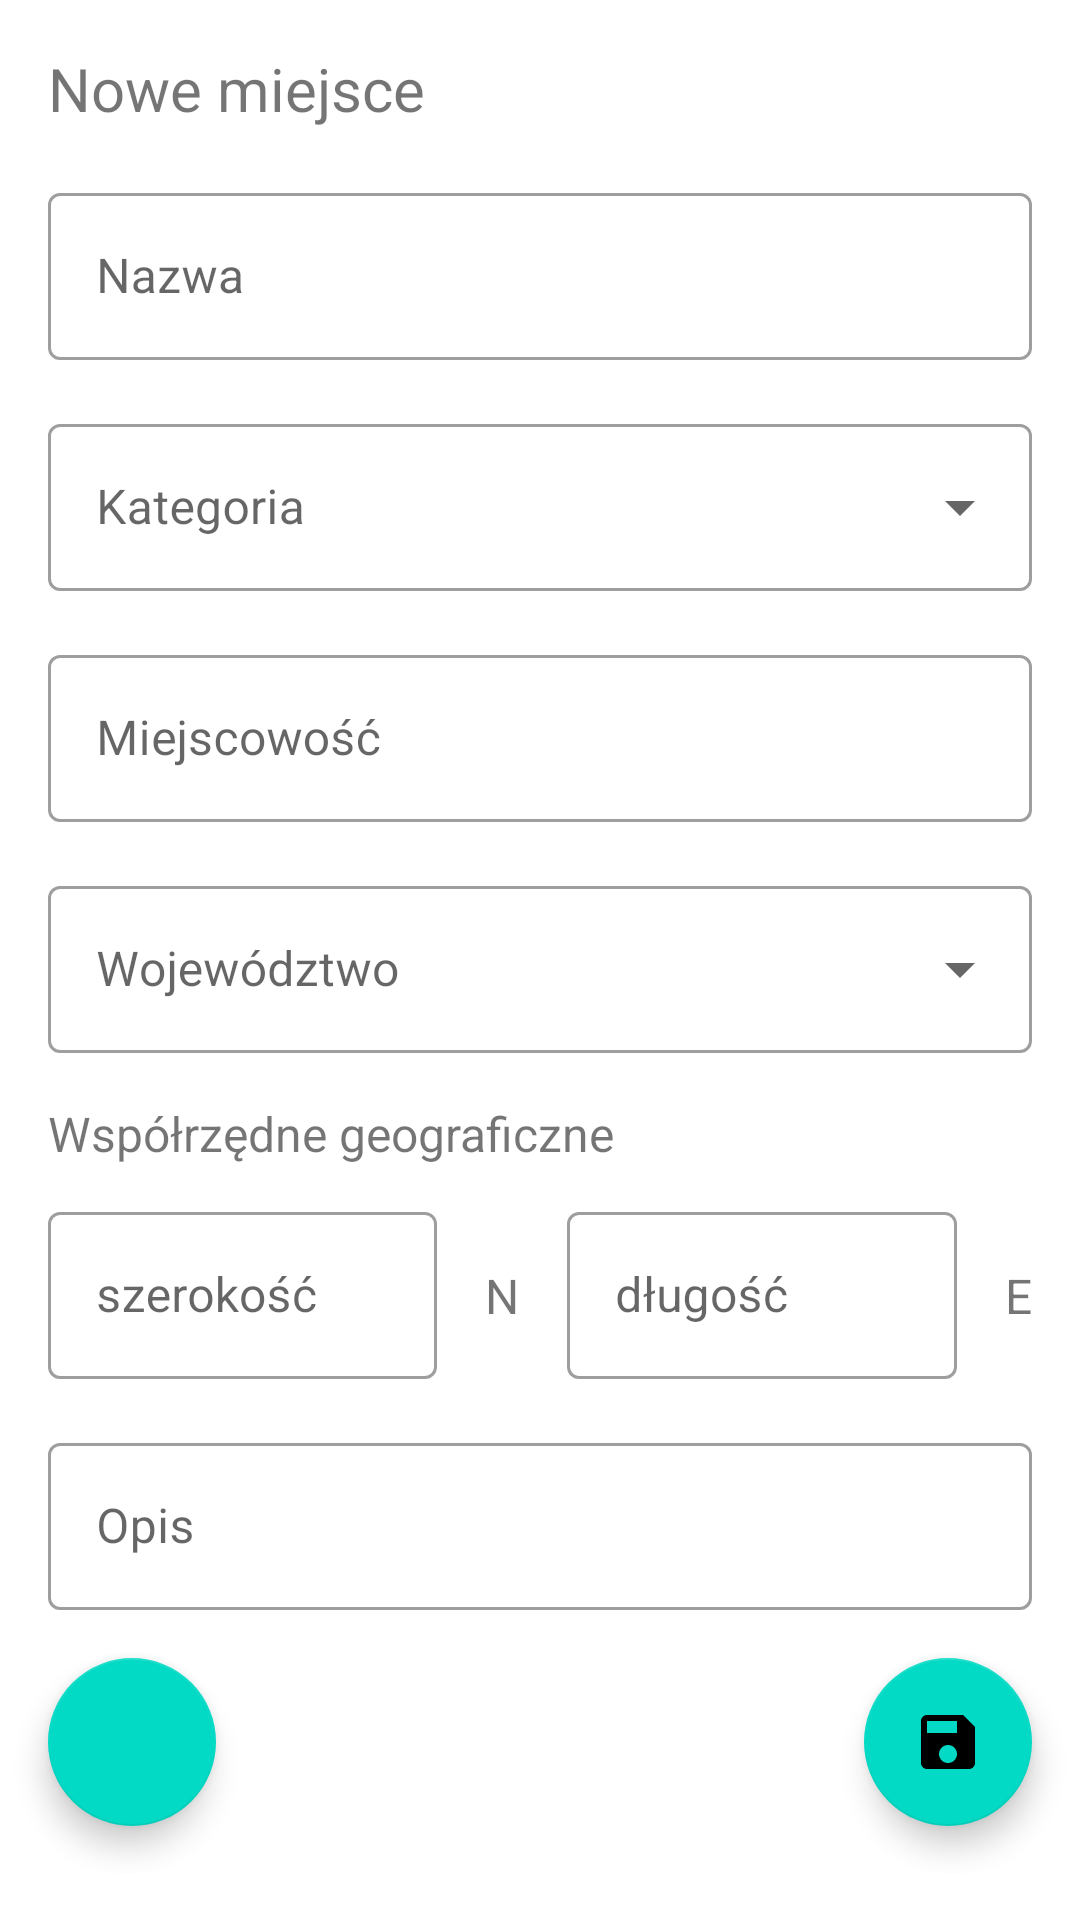

Icons on this 1080 x 1920 Android screen, each with the point to tap as point (x, y):
save: point (948, 1742)
